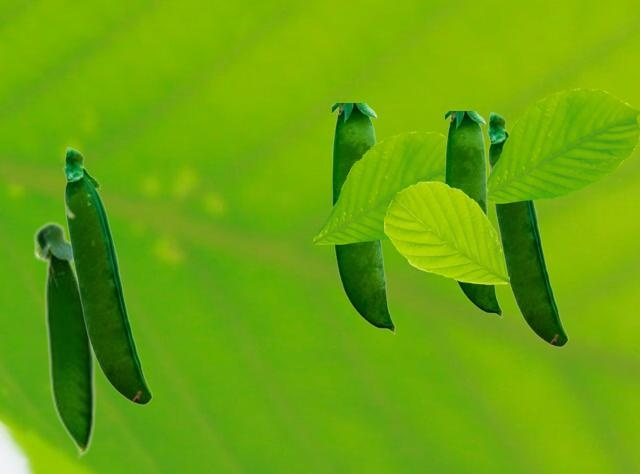pea: (62, 146, 151, 404), (486, 111, 567, 346), (32, 220, 95, 459), (332, 103, 394, 333), (445, 111, 501, 317)
